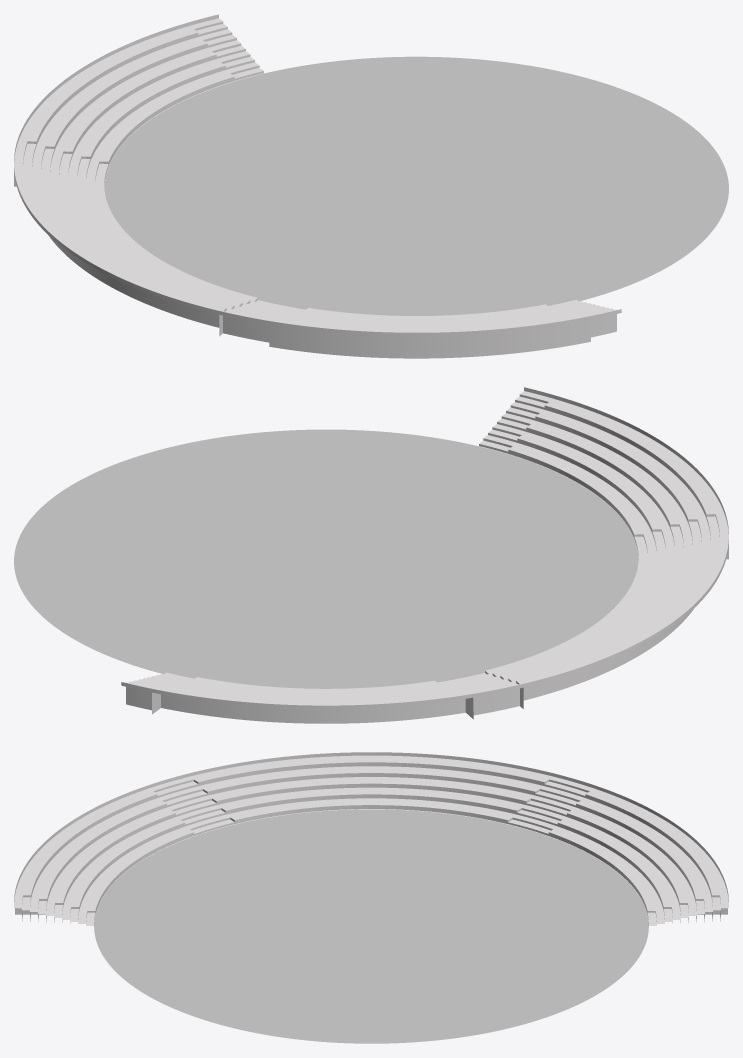
File: AGORA.FBX
3 renders of one model, top to bottom at view 1: azimuth 30°, elevation 25°; view 2: azimuth 150°, elevation 25°; view 3: azimuth 270°, elevation 25°, orthographic. The views are drawn at different scales.
Visible parts, largest first — view 1: GUANTE, BLANCO MATE; view 2: GUANTE, BLANCO MATE; view 3: GUANTE, BLANCO MATE.
Part boxes in pixels (x1,y1,x2,y2): GUANTE: (104, 56, 728, 315); BLANCO MATE: (14, 14, 621, 358); GUANTE: (14, 429, 638, 688); BLANCO MATE: (121, 387, 728, 723); GUANTE: (94, 809, 648, 1043); BLANCO MATE: (14, 752, 728, 925).
Bounding box in the file's own units: 51.5 × 2.08 × 58.
